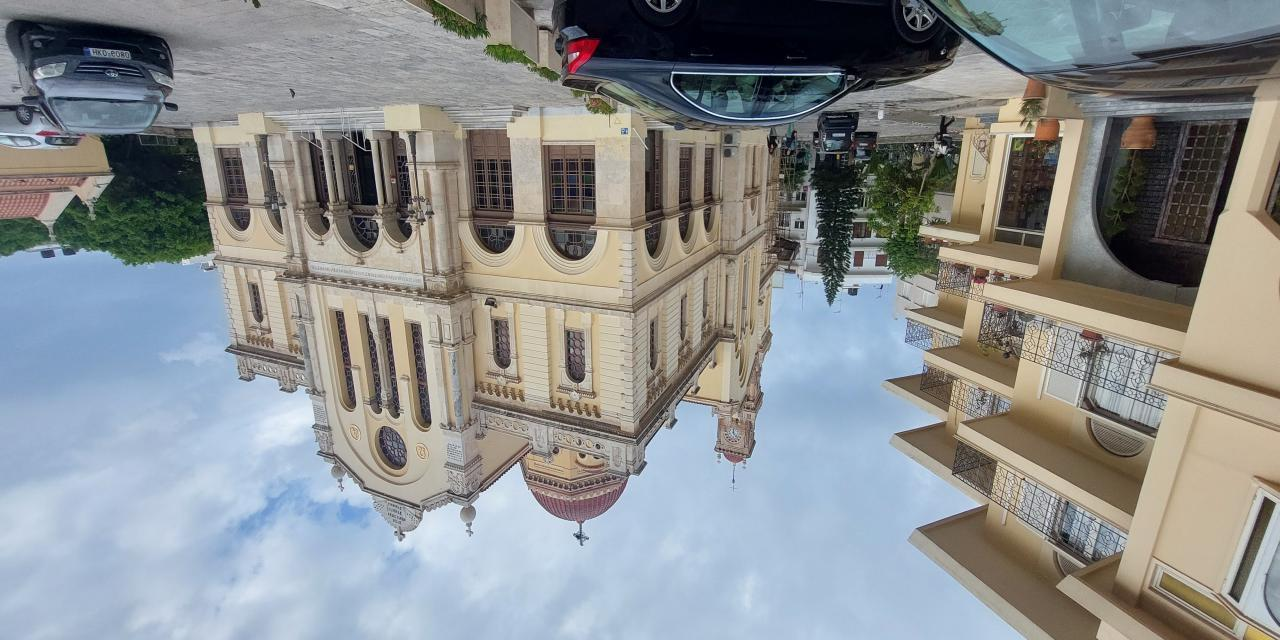Agios Minas: (190, 110, 787, 567)
